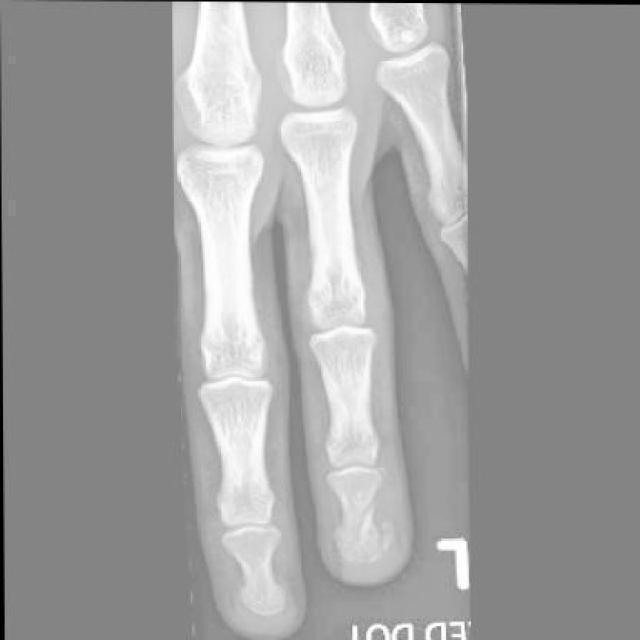bone: (334, 505, 399, 572)
